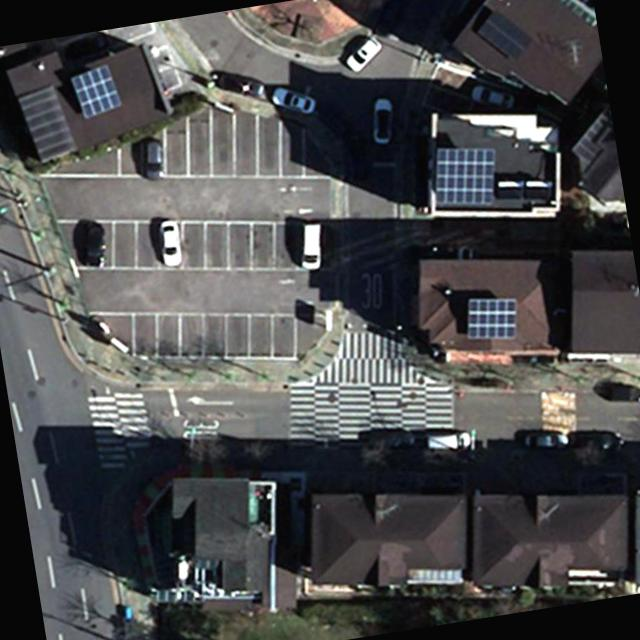solar: (424, 138, 504, 218), (473, 5, 539, 68), (459, 288, 526, 346), (67, 62, 126, 122)
